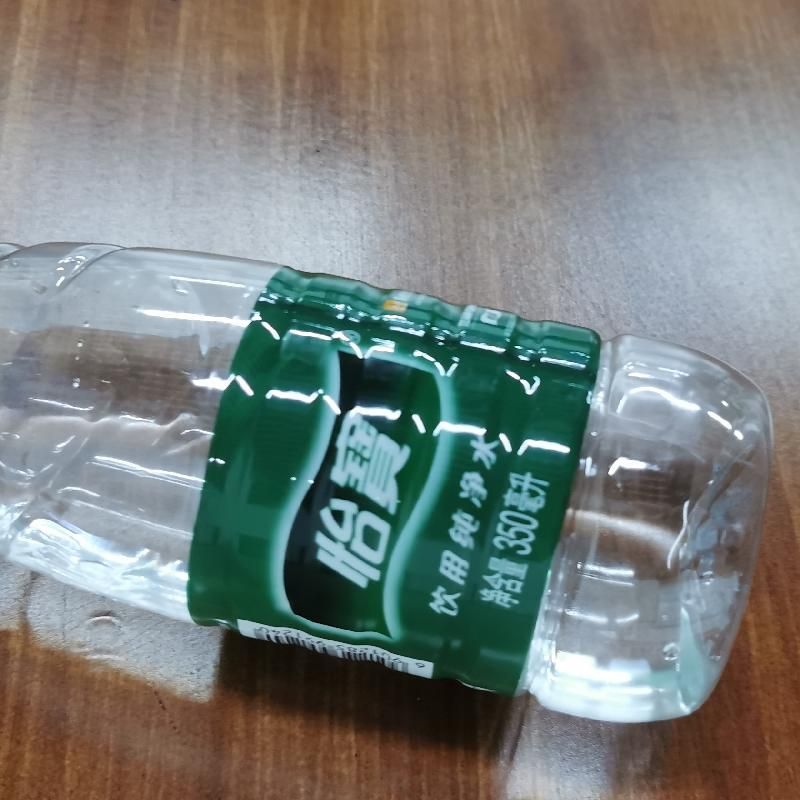bottles: (1, 223, 770, 724)
